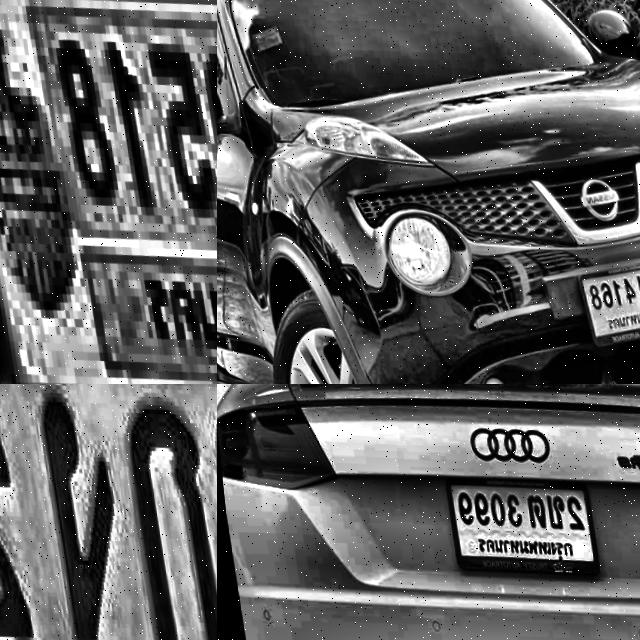license-plate: (0, 0, 217, 384), (0, 384, 217, 640), (435, 460, 595, 577), (561, 234, 640, 357)
